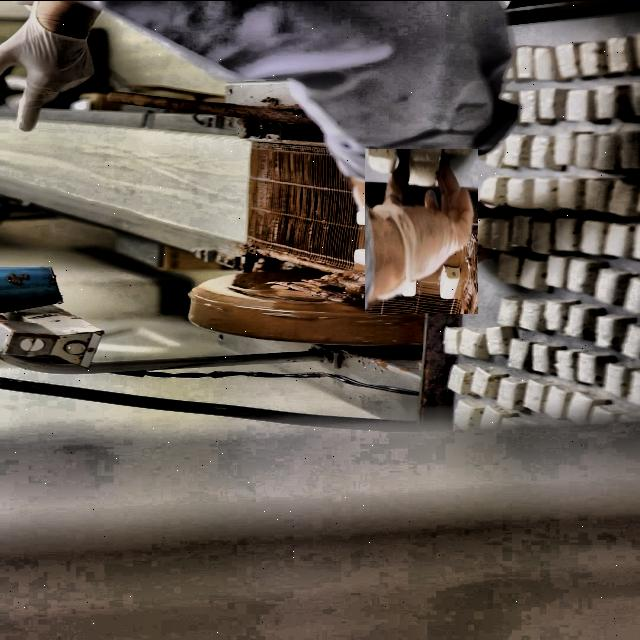gloved: (352, 160, 492, 300)
